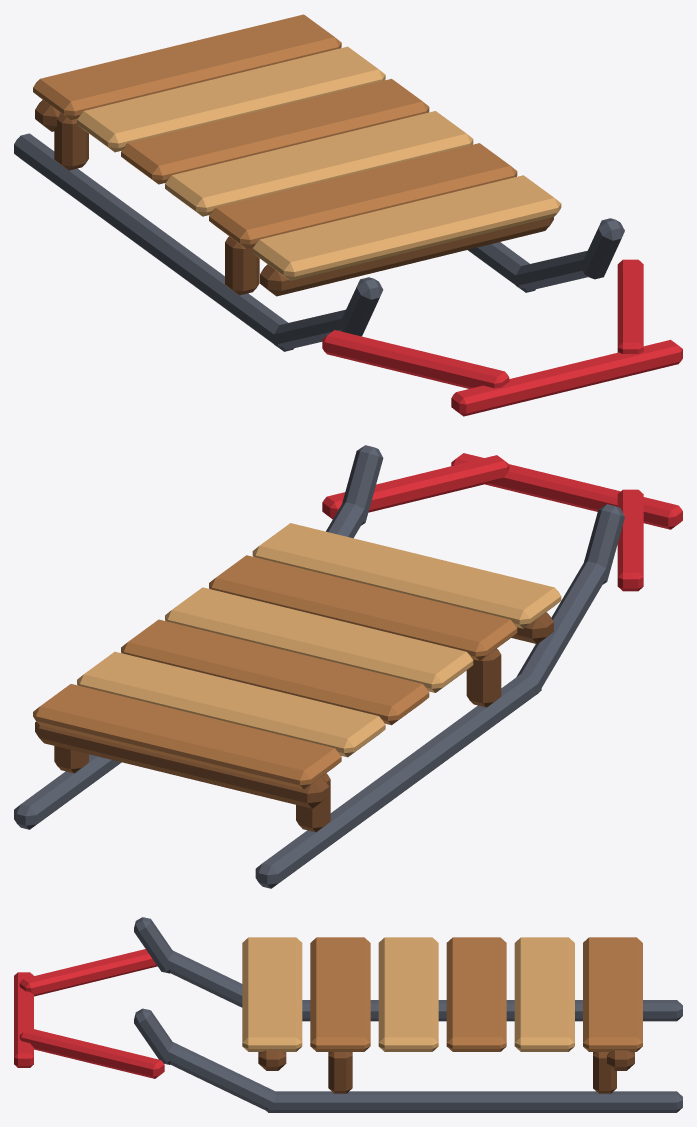
Rendered from prop_sled.glb.
3 renders of one model, top to bottom at view 1: azimuth 30°, elevation 25°; view 2: azimuth 150°, elevation 25°; view 3: azimuth 270°, elevation 25°, orthographic. The views are drawn at different scales.
Parts seen in each view (by area): view 1: sled; view 2: sled; view 3: sled.
Boxes of the visible parts, x1,y1,x2,y2 form: sled: (14,14,682,416); sled: (14,445,682,888); sled: (14,917,682,1112).
Size of the model in its own units: 0.7133 by 0.2781 by 1.67.
Materials: 1 (1 with a texture image).
